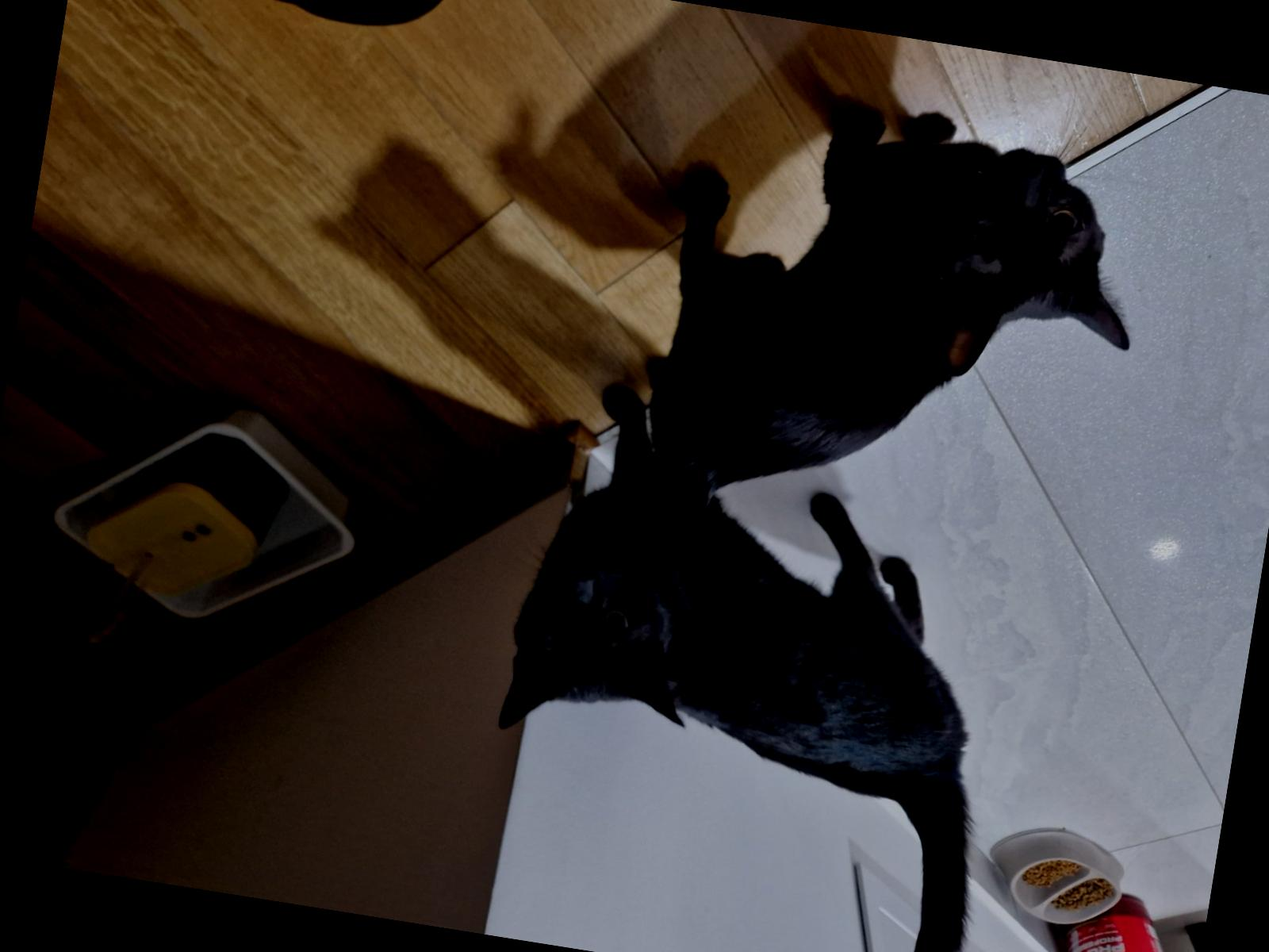macka: (605, 74, 1156, 768), (463, 341, 1049, 952)
